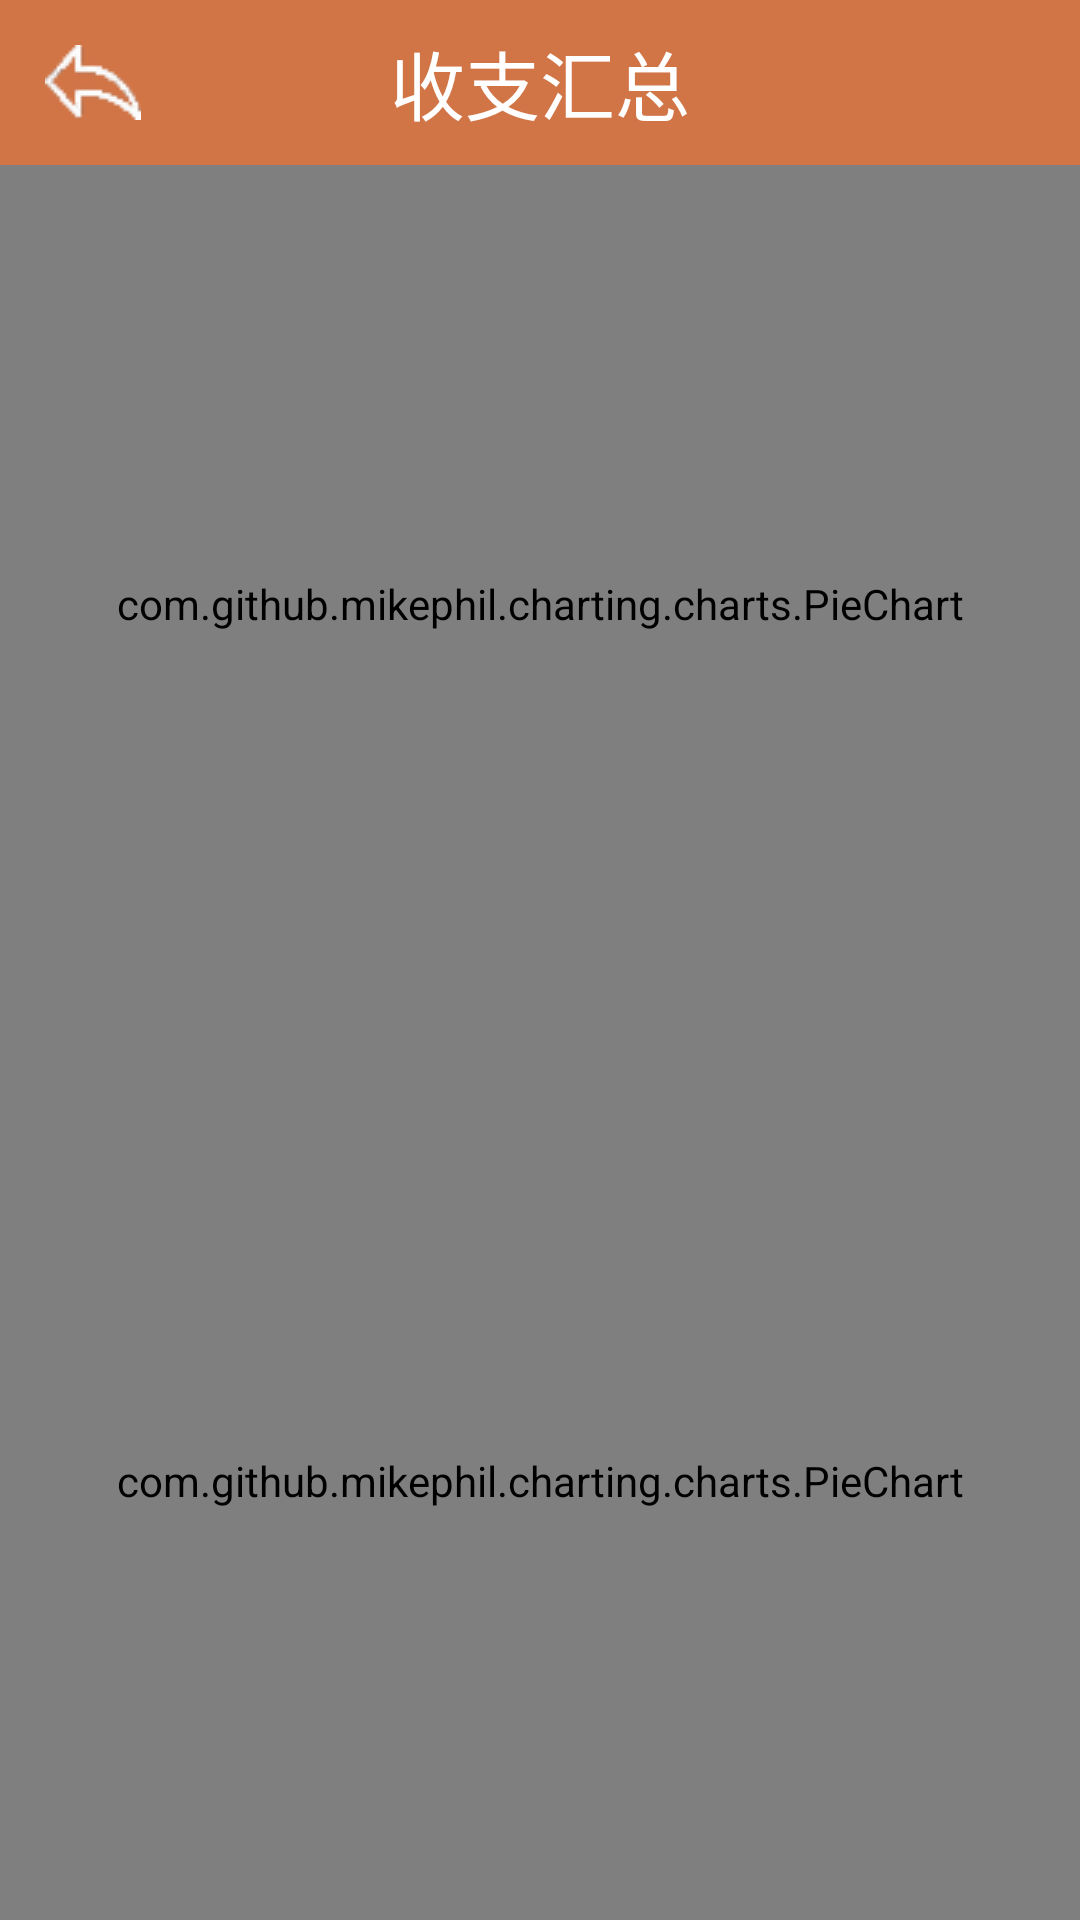

Locate icon controls on the screen. Image size 1080 x 1920, boxes as (x1, y1, x2, y2).
top tab back: (45, 45, 141, 120)
